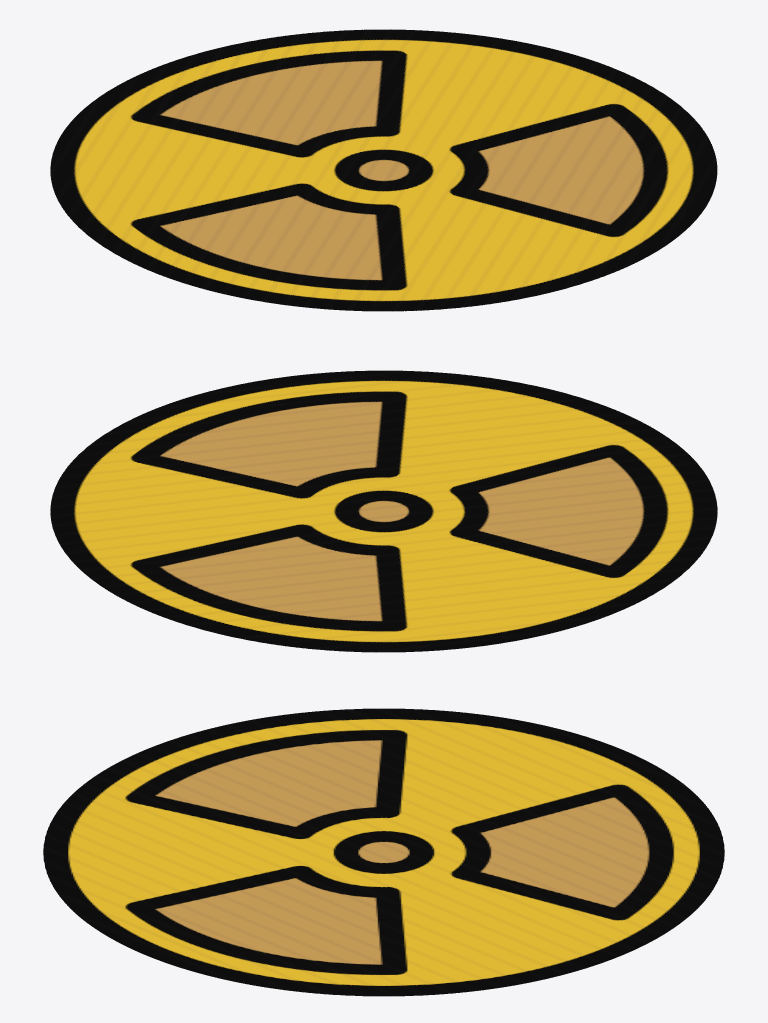
File: rad4.dae
The picture shows the model from 3 angles, top to bottom: view 1: azimuth 30°, elevation 25°; view 2: azimuth 150°, elevation 25°; view 3: azimuth 270°, elevation 25°; orthographic projection. The views are drawn at different scales.
Visible parts, largest first — view 1: Plane; view 2: Plane; view 3: Plane.
Boxes of the visible parts, x1,y1,x2,y2 form: Plane: [50, 29, 717, 311]; Plane: [50, 370, 717, 652]; Plane: [43, 708, 724, 996].
Bounding box in the file's own units: 1.83 × 1.83 × 0.
1 material, 1 textured.
